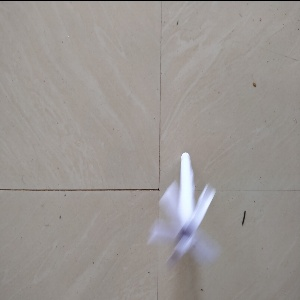weed: (155, 142, 214, 262)
